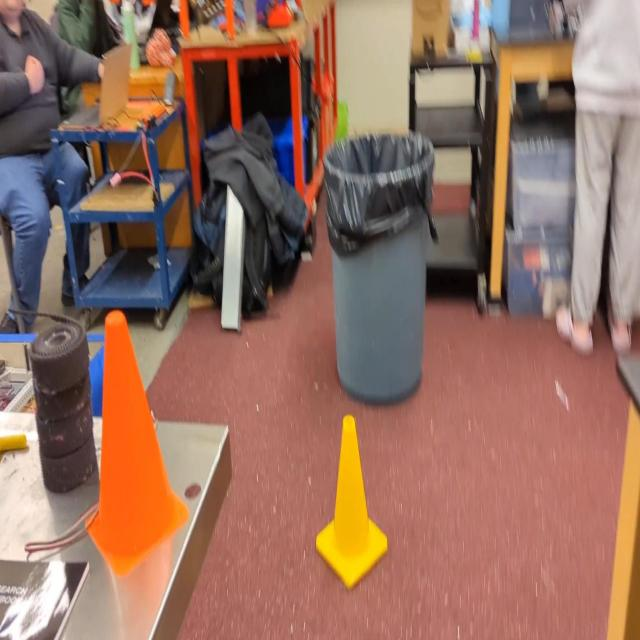frc_cone: (315, 412, 391, 592)
